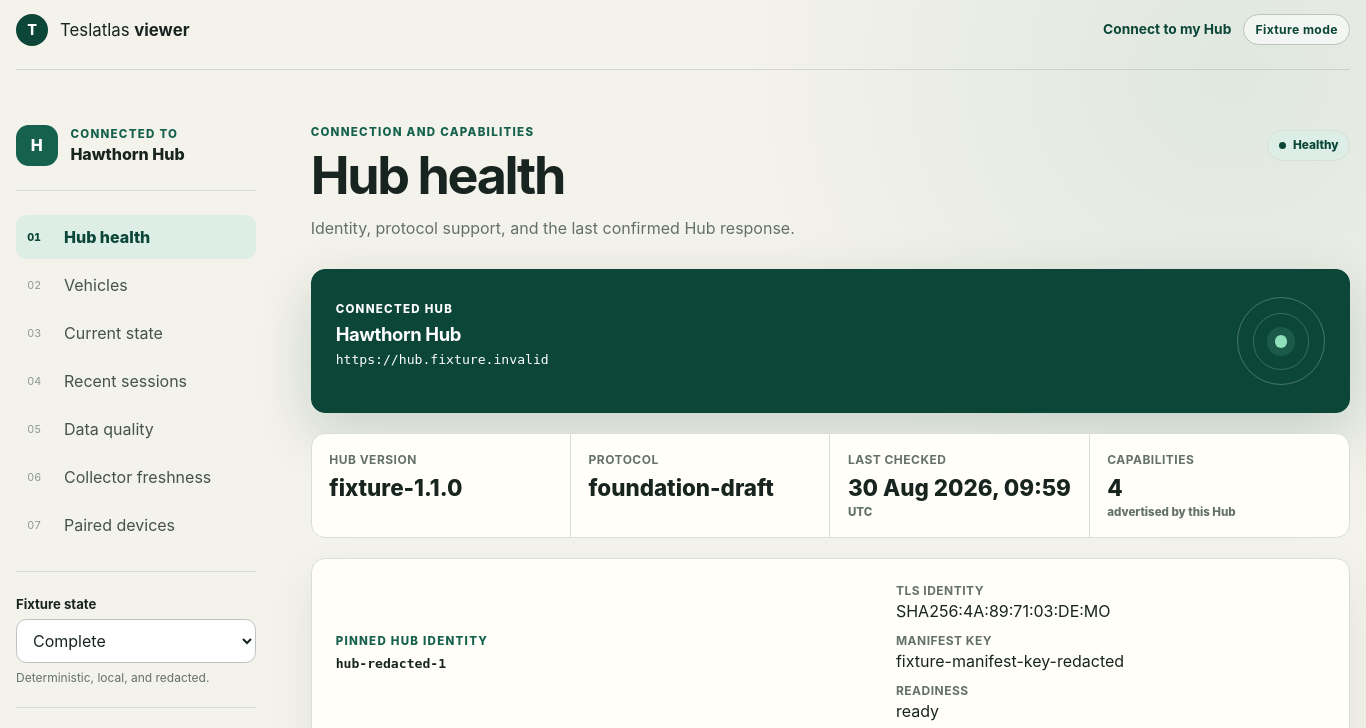
Test: reference views › does not present partial session quality as complete
Click the button "04 Recent sessions": (136, 381) [16, 359, 256, 403]
(page scrolled)
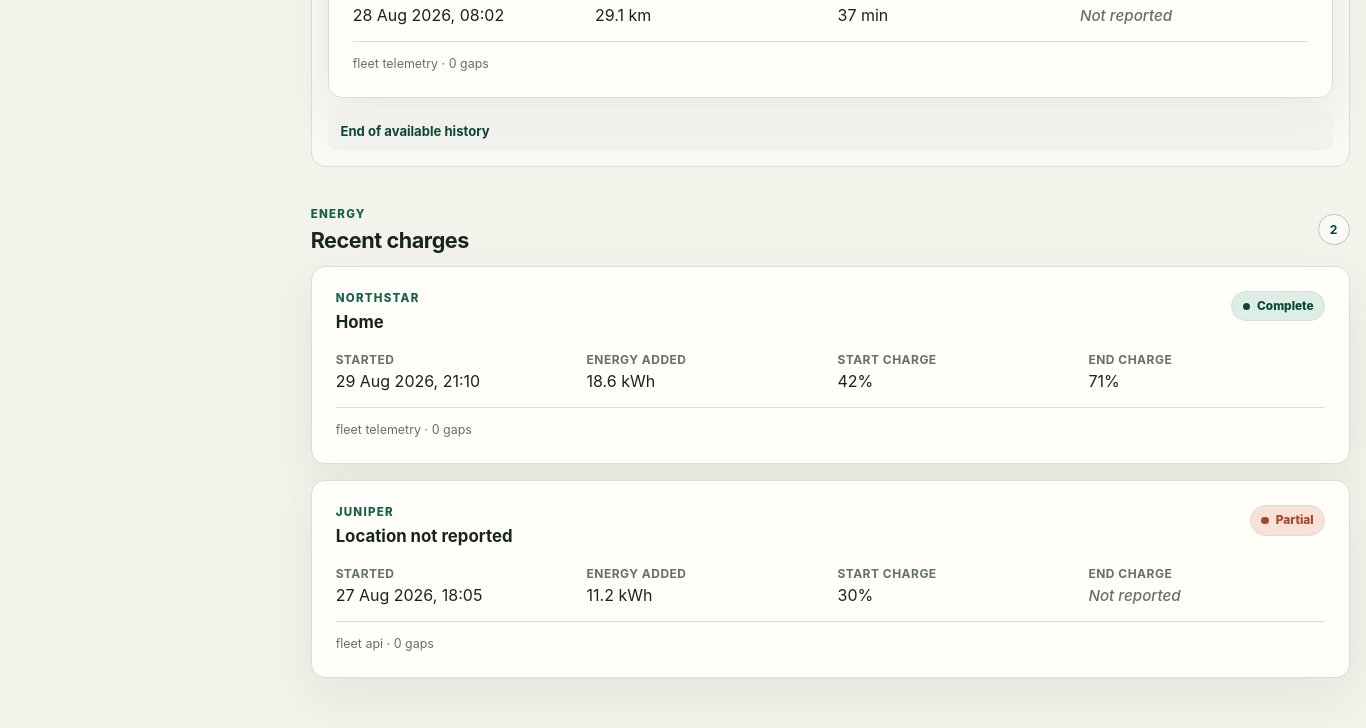
Check: the text "Partial" is shown 2 times
